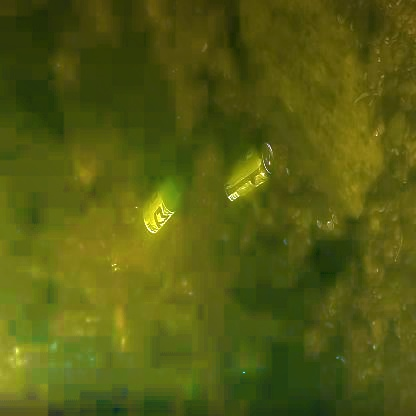can: (212, 123, 277, 205)
pbottle: (134, 164, 202, 242)
